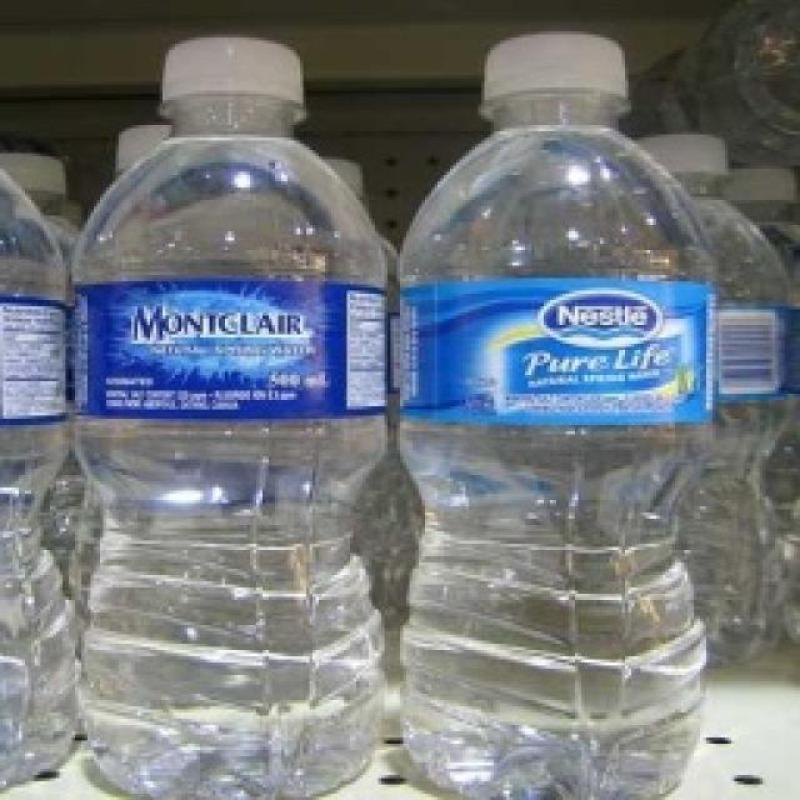botella: (399, 27, 715, 800), (71, 37, 390, 800), (647, 135, 788, 676), (0, 167, 78, 792), (727, 159, 800, 675), (0, 150, 72, 269), (101, 124, 174, 174), (316, 150, 366, 194)
